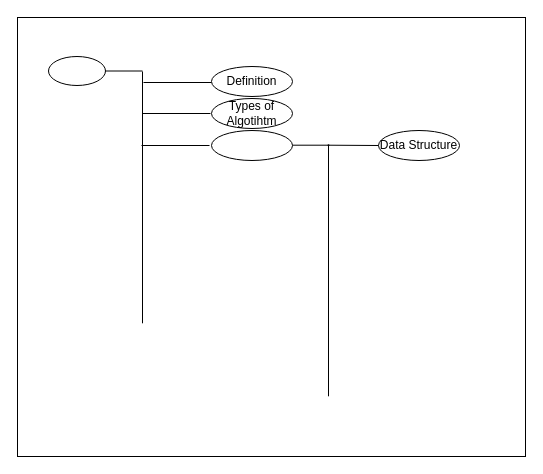
Image size: 543x474. Some labels were removed from this diagram. Here are the shapes that lost their labels. From the top down, the box of each, then its label:
(48, 56, 106, 86): Algorithm
(210, 130, 292, 160): Parts of Algorithm
